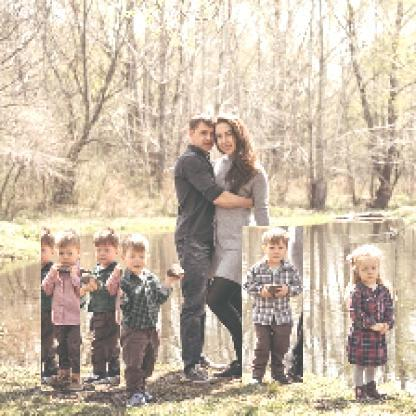child: (103, 233, 187, 408), (243, 228, 306, 386), (42, 227, 97, 393), (346, 244, 398, 402), (81, 227, 122, 386)
